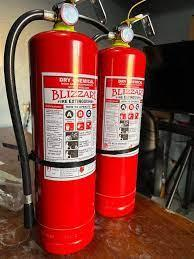wall-mounted: (4, 0, 98, 255), (90, 13, 155, 220)
